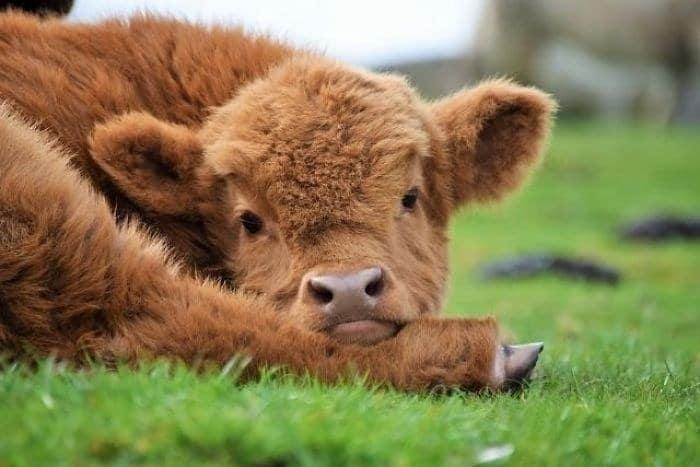muzzles: (288, 260, 418, 347)
